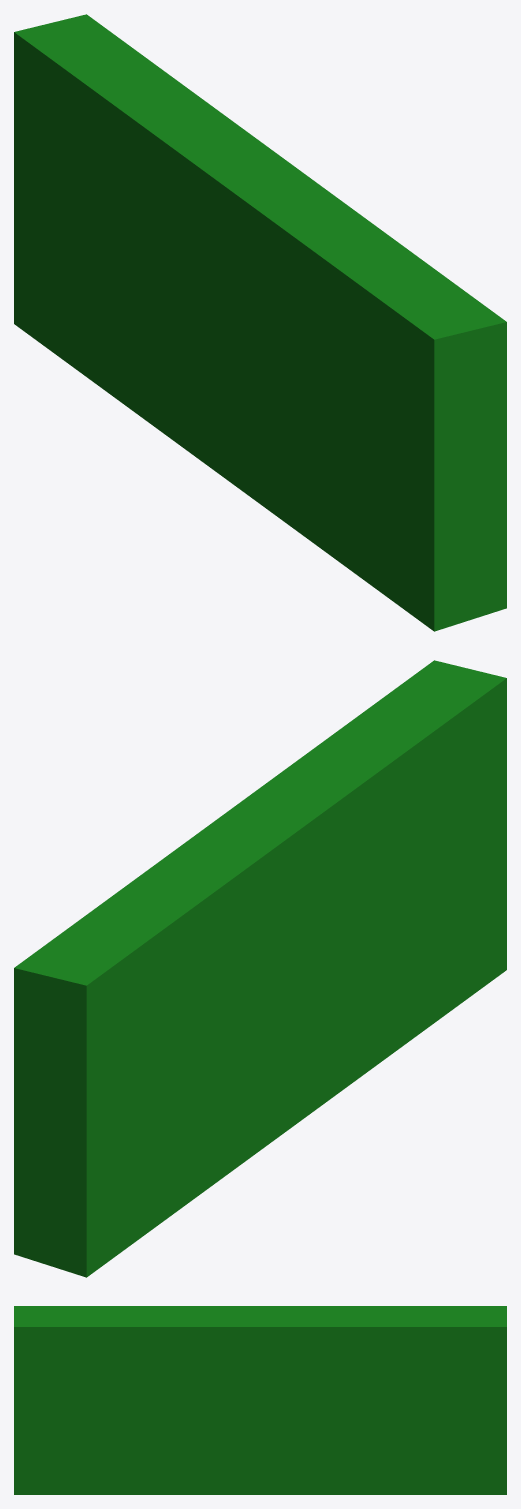
3 renders of one model, top to bottom at view 1: azimuth 30°, elevation 25°; view 2: azimuth 150°, elevation 25°; view 3: azimuth 270°, elevation 25°, orthographic. The views are drawn at different scales.
Visible parts, largest first — view 1: geometry_8; view 2: geometry_8; view 3: geometry_8.
Boxes of the visible parts, x1,y1,x2,y2 form: geometry_8: (14,14,506,631); geometry_8: (14,660,506,1277); geometry_8: (14,1306,506,1494).
Bounding box in the file's own units: 0.00399 × 0.0153 × 0.04.
